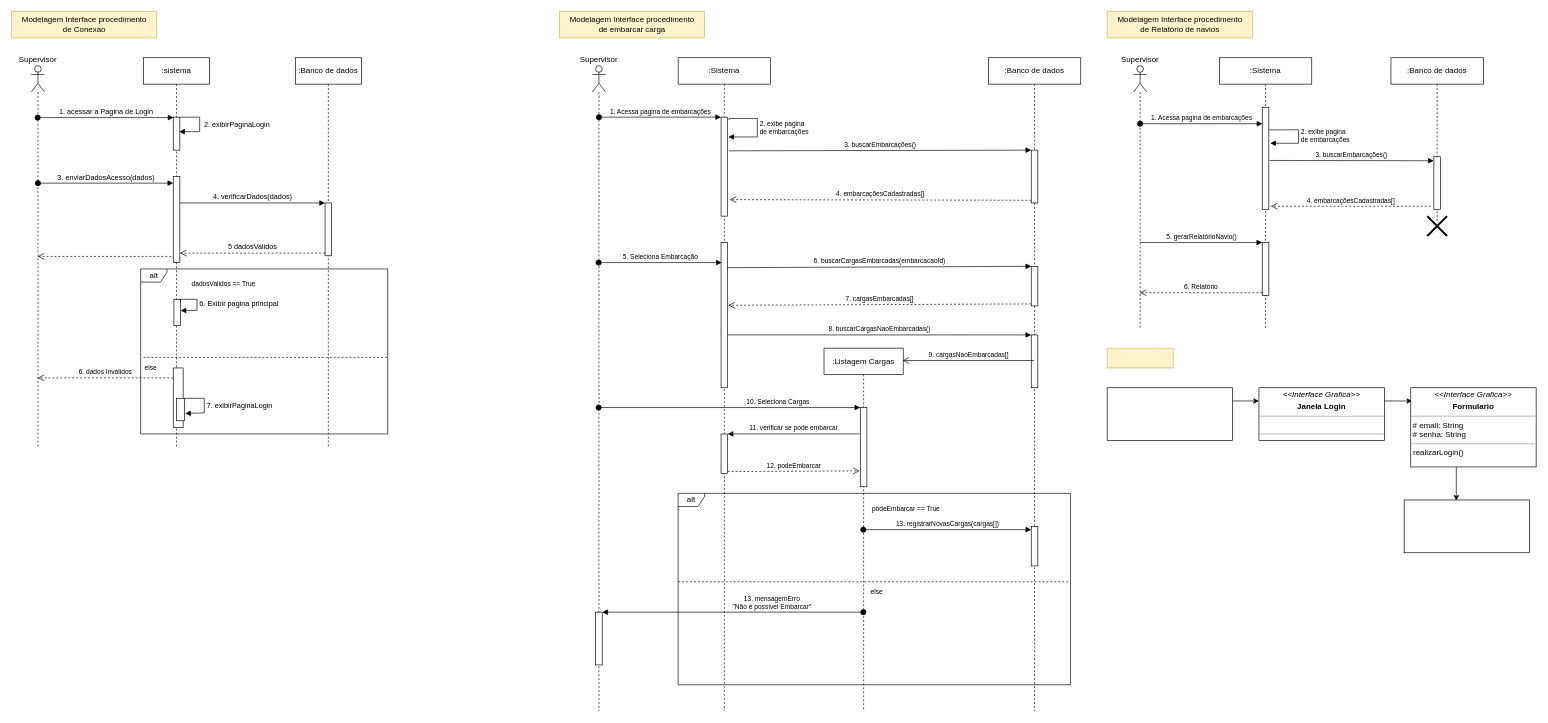
The diagram is 1548 pixels wide and 723 high, and some of its shapes have lost their labels. Here are the shapes that lost their labels. From the top down, the centre of each, then its label:
At (1139,357): "Interface Login".
At (1169,414): "<<Ator>> Supervisor".
At (1466,526): "<<Persintencia>> Armazenador".
